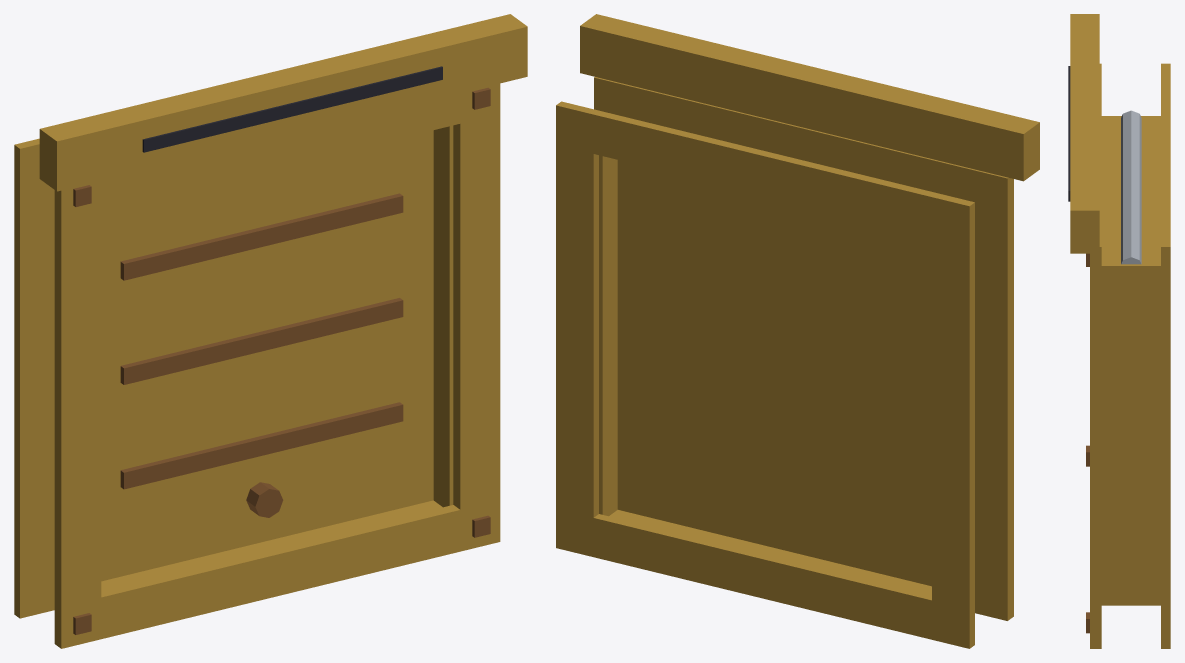
File: CatCafe_CatFlap_MailSlot.glb
The picture shows the model from 3 angles, left to right: view 1: azimuth 30°, elevation 25°; view 2: azimuth 150°, elevation 25°; view 3: azimuth 270°, elevation 25°; orthographic projection. The views are drawn at different scales.
Visible parts, largest first — view 1: CatCafe_CatFlap_MailSlot, CatCafe_CatFlap_MailSlot_Flap; view 2: CatCafe_CatFlap_MailSlot, CatCafe_CatFlap_MailSlot_Flap; view 3: CatCafe_CatFlap_MailSlot, CatCafe_CatFlap_MailSlot_Flap.
Boxes of the visible parts, x1,y1,x2,y2 form: CatCafe_CatFlap_MailSlot: [14, 14, 527, 648]; CatCafe_CatFlap_MailSlot_Flap: [101, 130, 433, 581]; CatCafe_CatFlap_MailSlot: [556, 14, 1039, 648]; CatCafe_CatFlap_MailSlot_Flap: [617, 160, 931, 586]; CatCafe_CatFlap_MailSlot: [1068, 14, 1170, 648]; CatCafe_CatFlap_MailSlot_Flap: [1121, 110, 1141, 264].
Bounding box in the file's own units: 2.36 × 2.49 × 0.52.
1 material, 1 textured.
